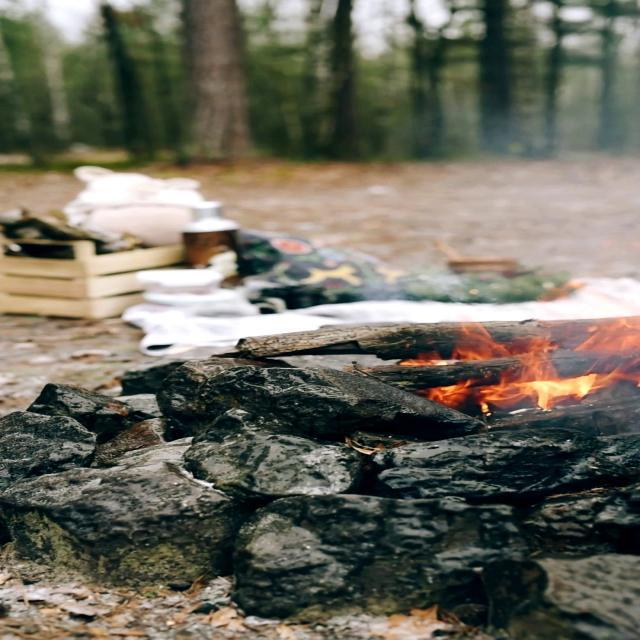Fire: (454, 288, 640, 424)
Smoke: (376, 90, 640, 321)
